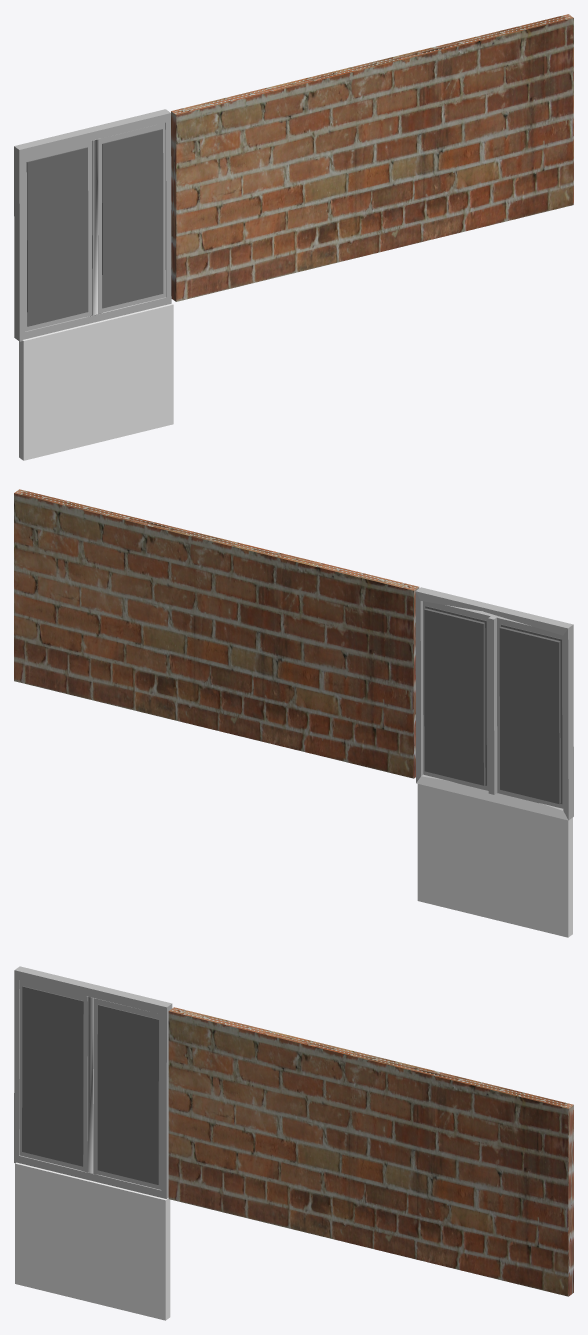
Rendered from 2-Part_Window_w_Plane_w_BrickWall.FBX.
3 views of the same model, one above another, from view 1: azimuth 30°, elevation 25°; view 2: azimuth 150°, elevation 25°; view 3: azimuth 330°, elevation 25° (orthographic).
Parts seen in each view (by area): view 1: Box023, Plane002, Box001, Window_Frame, Window_Pane; view 2: Box023, Plane002, Box001, Window_Frame, Window_Pane; view 3: Box023, Plane002, Box001, Window_Frame, Window_Pane.
Boxes of the visible parts, <box> form: Box023: <box>171,14,573,301</box>; Plane002: <box>26,129,163,326</box>; Box001: <box>19,303,173,460</box>; Window_Frame: <box>14,109,171,341</box>; Window_Pane: <box>24,123,165,331</box>; Box023: <box>14,489,419,778</box>; Plane002: <box>424,606,562,804</box>; Box001: <box>417,784,572,937</box>; Window_Frame: <box>415,587,573,820</box>; Window_Pane: <box>423,601,563,808</box>; Box023: <box>168,1007,573,1296</box>; Plane002: <box>22,986,159,1184</box>; Box001: <box>15,1162,170,1320</box>; Window_Frame: <box>14,966,172,1198</box>; Window_Pane: <box>19,980,161,1189</box>.
Size of the model in its own units: 36.9 by 19.78 by 0.9356.
Materials: 4 (1 with a texture image).
